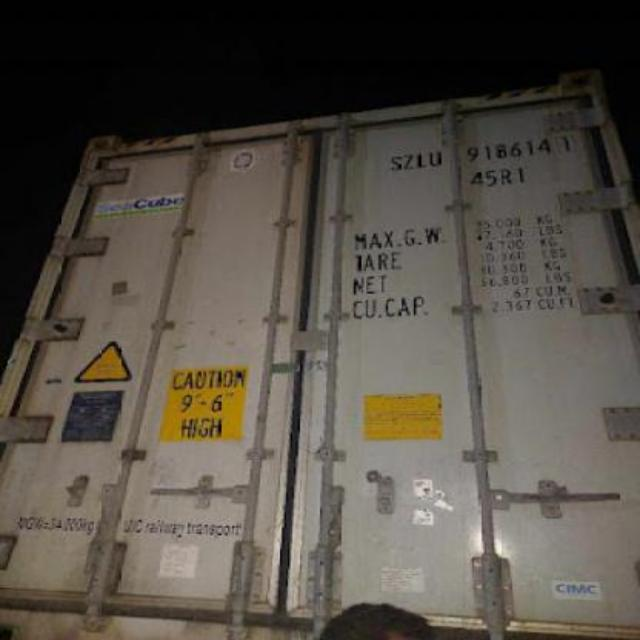1: (560, 135, 576, 153), (482, 143, 494, 161), (524, 140, 538, 154)
4: (540, 140, 550, 152)
6: (511, 139, 524, 159)
8: (494, 142, 508, 162)
9: (464, 144, 482, 164)
L: (414, 150, 428, 170)
S: (388, 154, 404, 170)
U: (426, 148, 446, 168)
Z: (402, 154, 416, 170)
